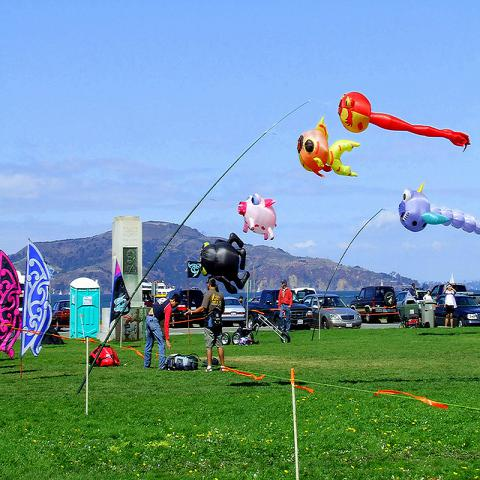car: (300, 292, 363, 330), (434, 292, 480, 328), (166, 288, 206, 328), (222, 296, 246, 327), (430, 283, 468, 300), (396, 291, 419, 317), (52, 300, 70, 331)
truck: (248, 288, 314, 330), (350, 286, 398, 326), (162, 288, 206, 328)
